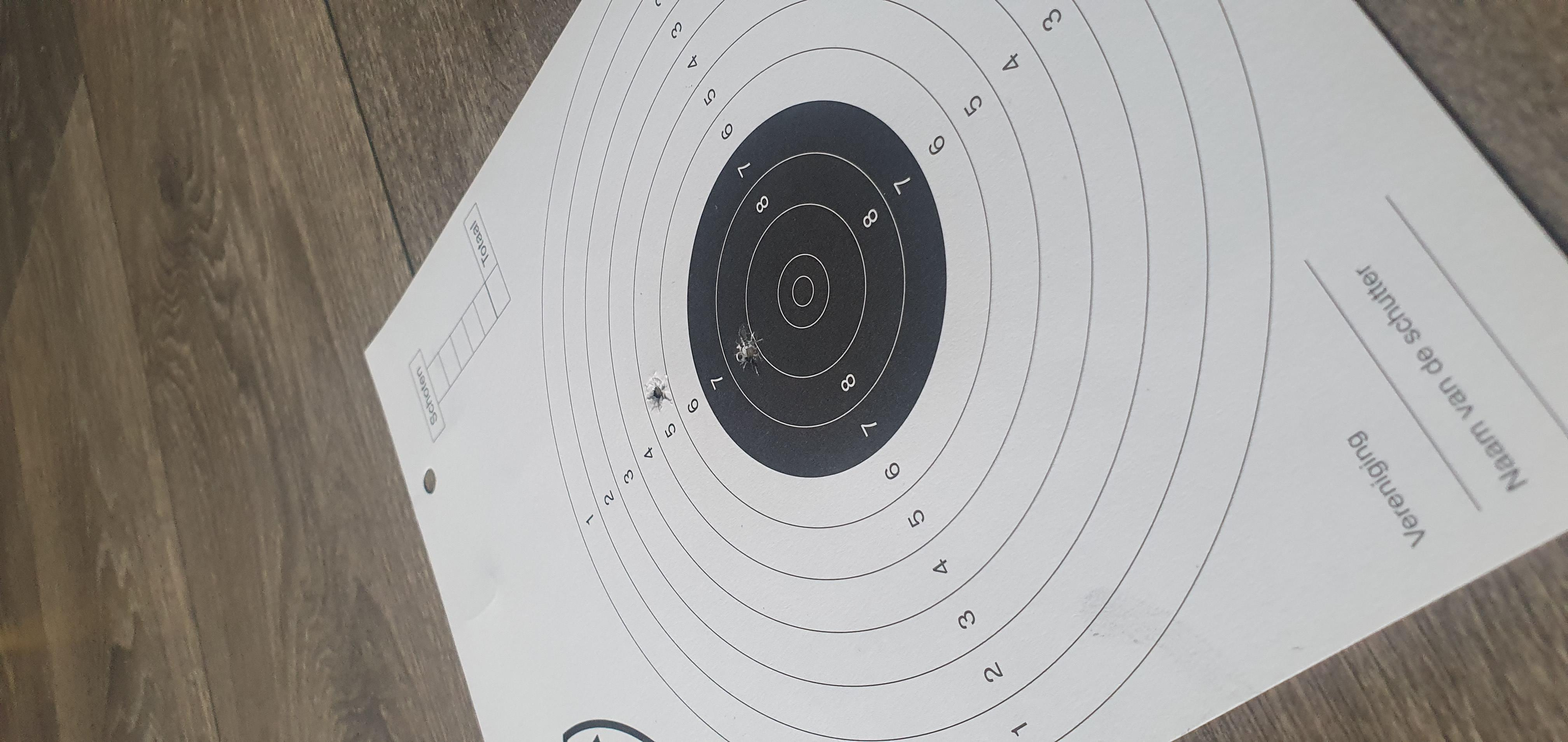hole: (774, 345, 864, 361), (700, 303, 782, 319)
